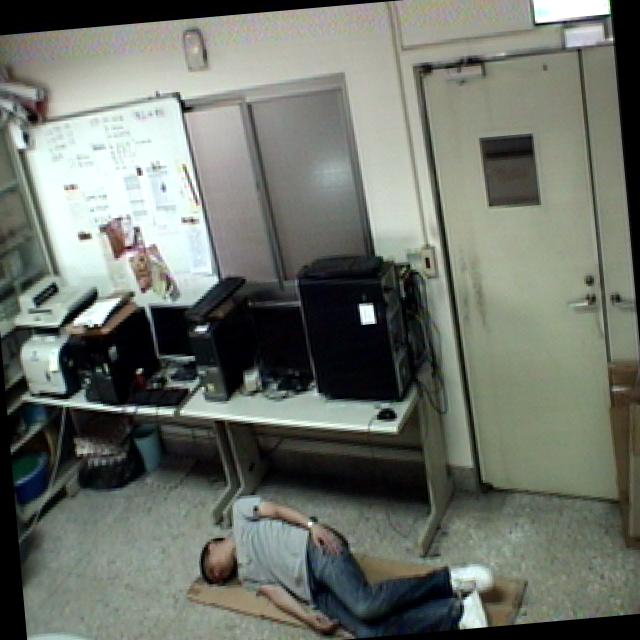lie: (186, 468, 499, 640)
